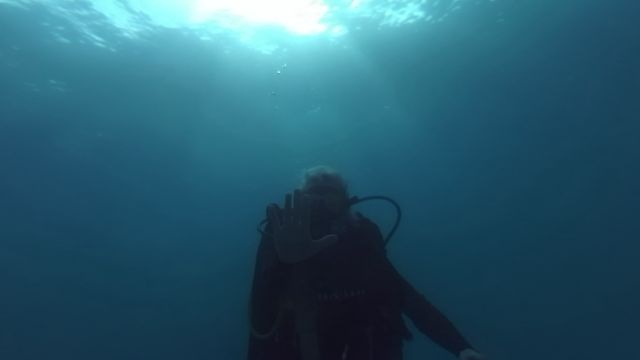Diver: (239, 156, 471, 341)
